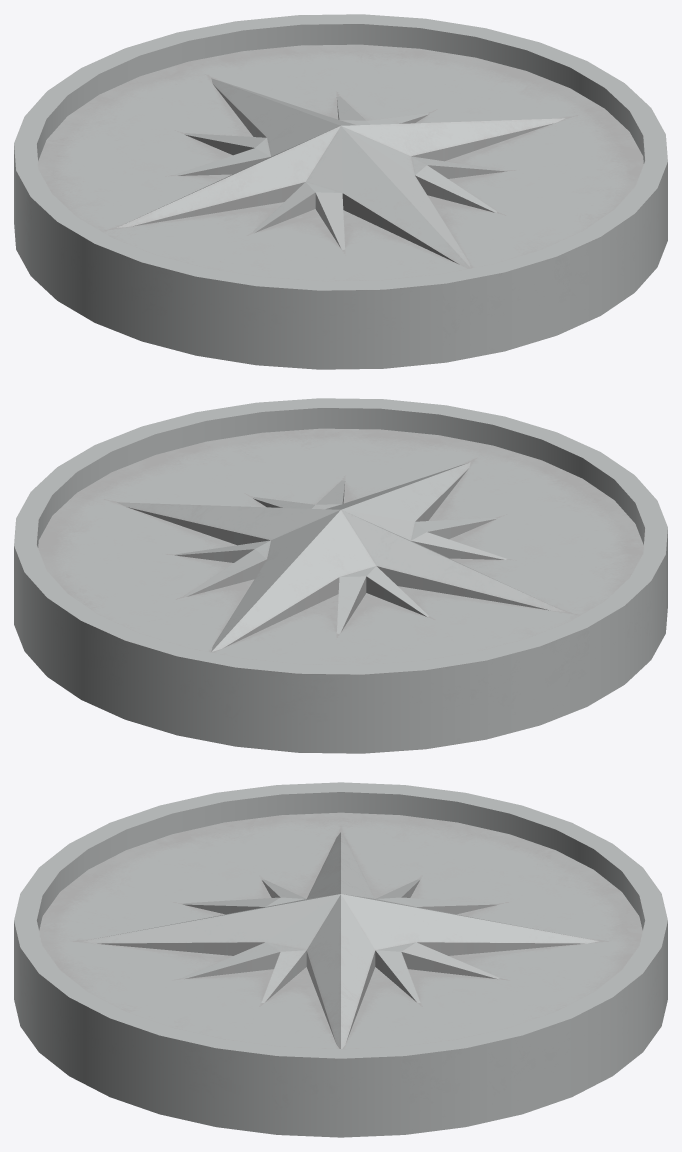
Rendered from coinBaseSilver.fbx.
3 views of the same model, one above another, from view 1: azimuth 30°, elevation 25°; view 2: azimuth 150°, elevation 25°; view 3: azimuth 270°, elevation 25° (orthographic).
Visible parts, largest first — view 1: coinBaseSilver; view 2: coinBaseSilver; view 3: coinBaseSilver.
Boxes of the visible parts, x1,y1,x2,y2 form: coinBaseSilver: (14, 14, 667, 369); coinBaseSilver: (14, 398, 667, 753); coinBaseSilver: (14, 782, 667, 1137).
Size of the model in its own units: 50.66 by 11.39 by 50.66.
